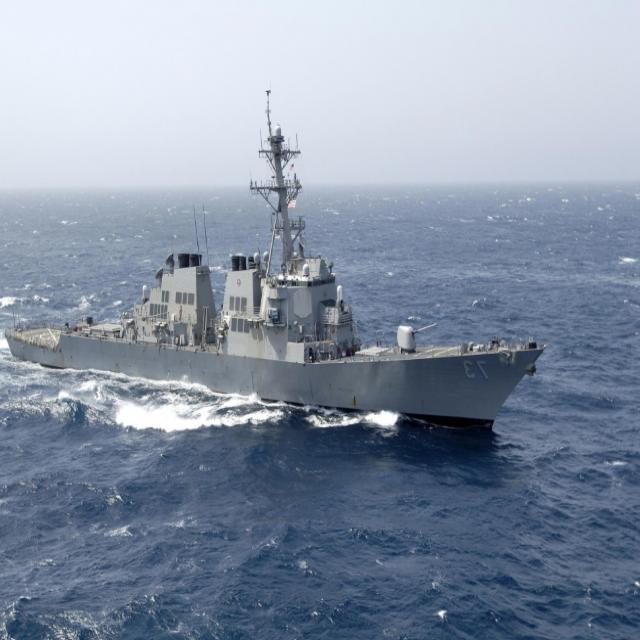navalvessels: (0, 92, 558, 417)
